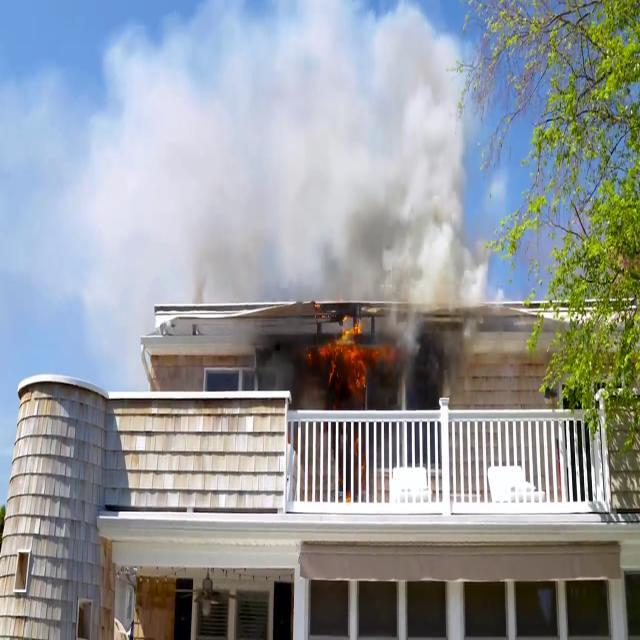Fire: (324, 312, 372, 397)
Smoke: (59, 0, 504, 352), (256, 346, 331, 416)
